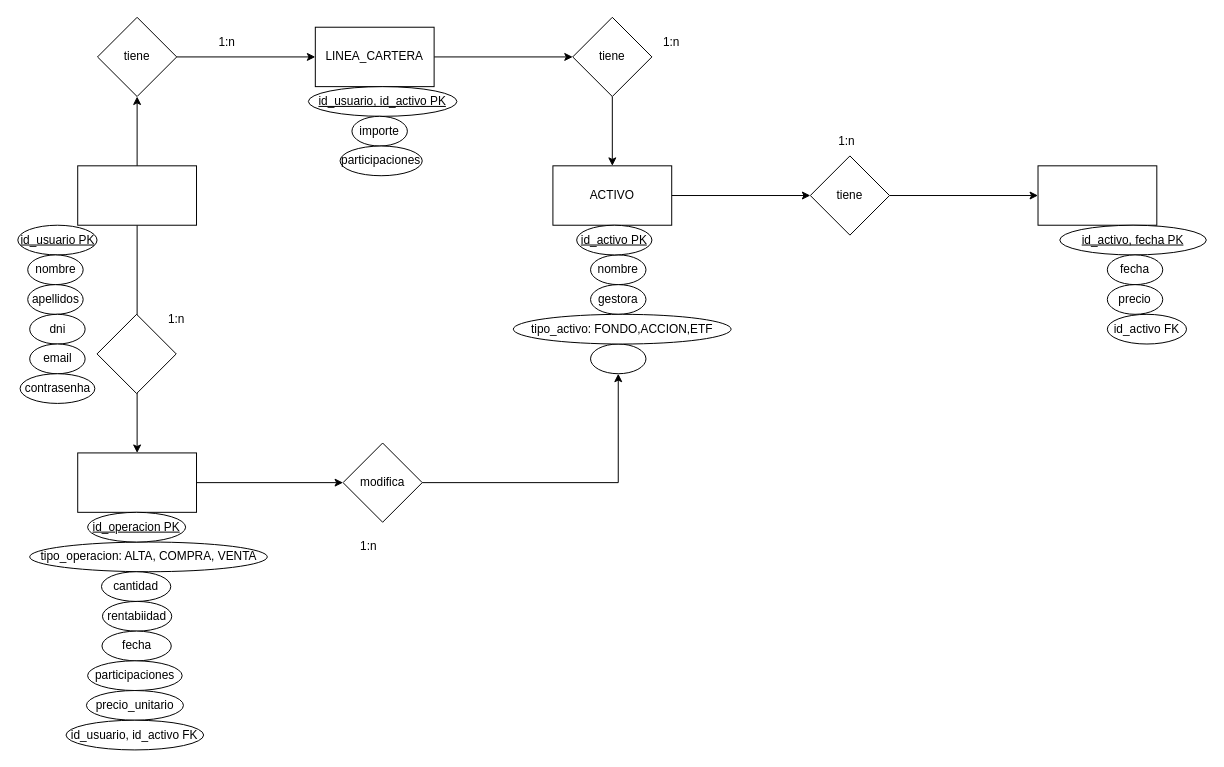
Image size: 1224x767. Some labels were removed from this diagram. Here are the shapes that lost their labels. From the top down, the centre of each, then its label:
point (137, 195): USUARIO
point (1097, 195): PRECIO_ACTIVO
point (136, 353): realiza
point (618, 358): isin
point (137, 482): OPERACION
